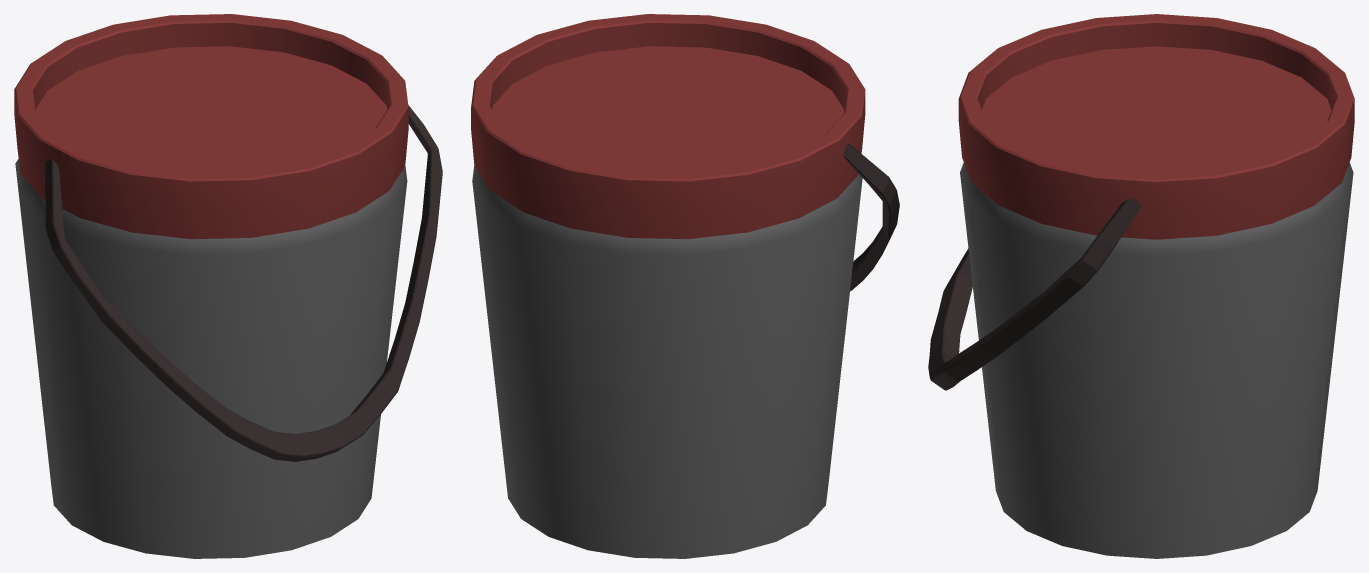
Rendered from 3D_Balde_Pintura.fbx.
The picture shows the model from 3 angles, left to right: view 1: azimuth 30°, elevation 25°; view 2: azimuth 150°, elevation 25°; view 3: azimuth 270°, elevation 25°; orthographic projection.
Visible parts, largest first — view 1: BALDE_PINTURA; view 2: BALDE_PINTURA; view 3: BALDE_PINTURA.
Part boxes in pixels (x1,y1,x2,y2): BALDE_PINTURA: (14,14,442,558); BALDE_PINTURA: (471,14,899,558); BALDE_PINTURA: (928,14,1354,558).
Size of the model in its own units: 23.82 by 23.64 by 23.17.
